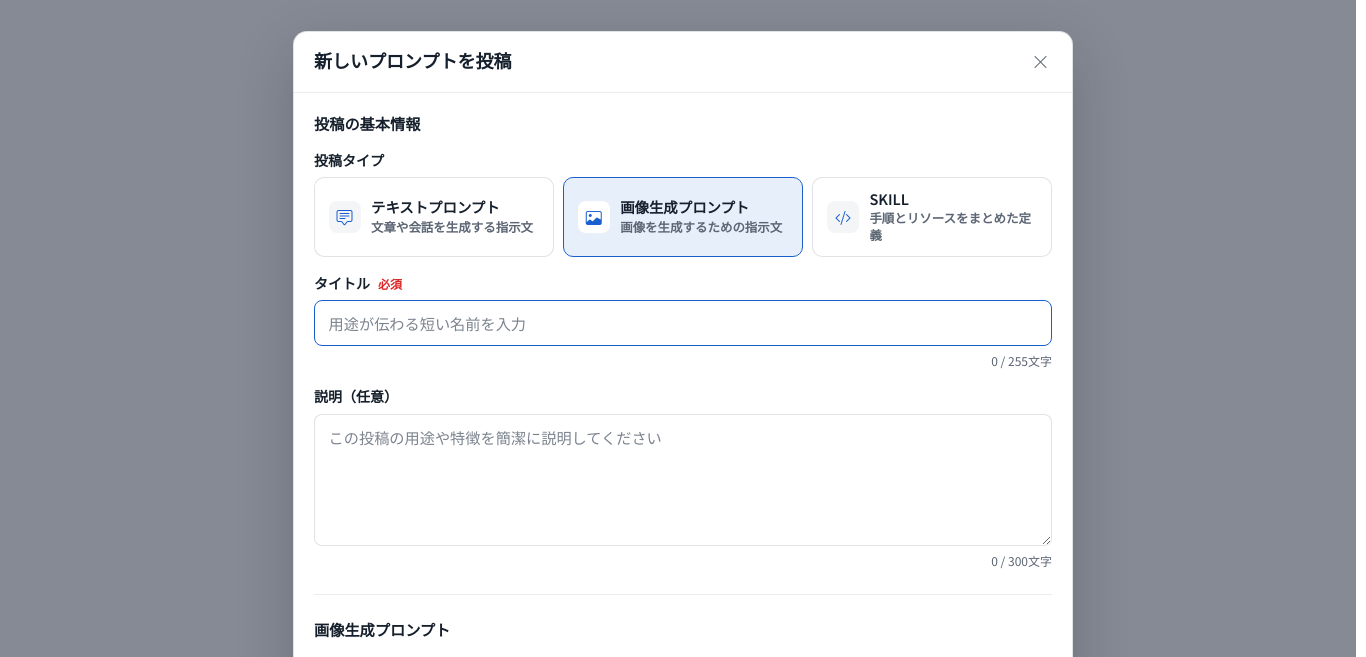
新しいプロンプトを投稿モーダル › SKILLでは定義と追加リソースを表示し、本文・画像・入出力例を非表示にする
Click the radio button labelled "SKILL 手順とリソースをまとめた定義" at (932, 217), box [812,177,1052,257]
(page scrolled)
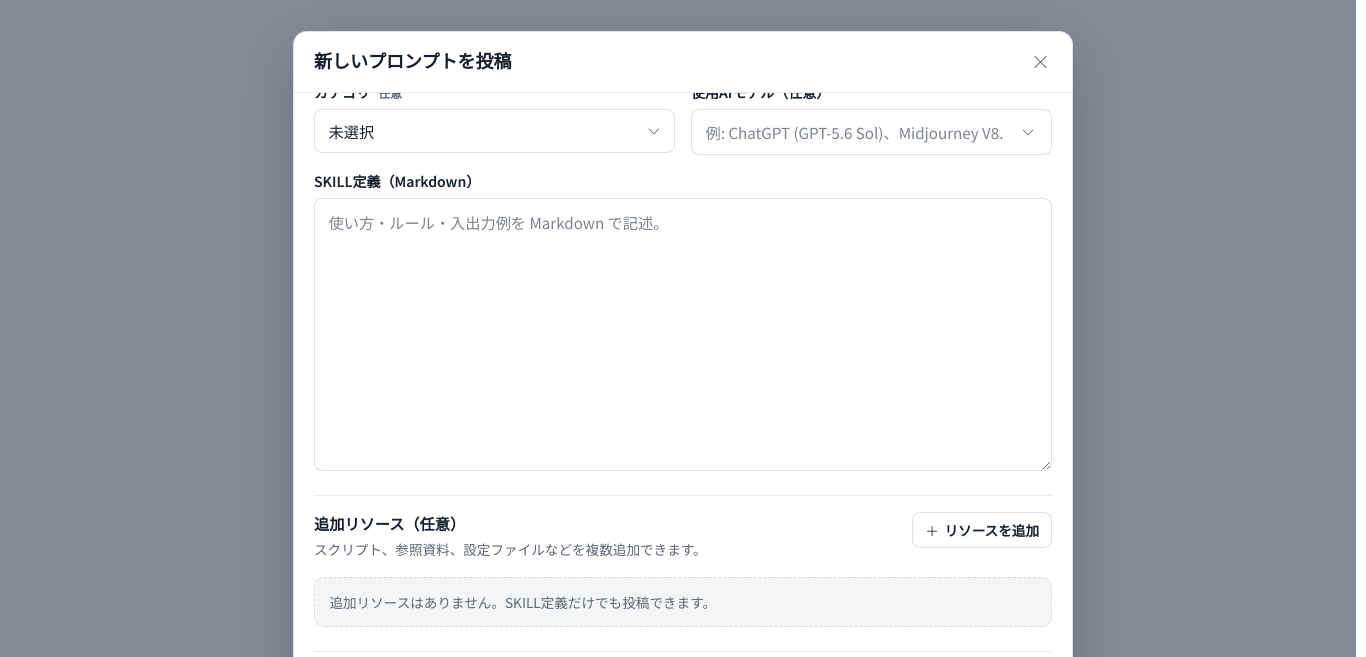
Now the text box labelled "SKILL定義（Markdown）" is shown, box [314,198,1052,471]
Now the heading "追加リソース（任意）" is shown, box [314,512,465,534]
